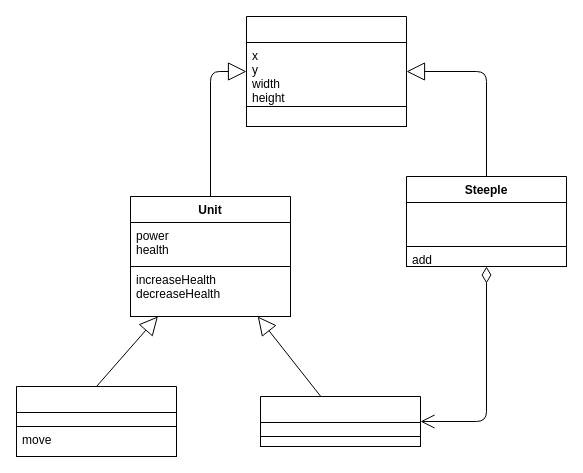
The diagram is 583 pixels wide and 473 high, and some of its shapes have lost their labels. The box of each missing label's shape, as (x1, y1, x2, y2) in pixels:
Atacker: (16, 386, 176, 456)
Defender: (260, 396, 420, 446)
defenders: (406, 202, 566, 246)
Element: (246, 16, 406, 126)
